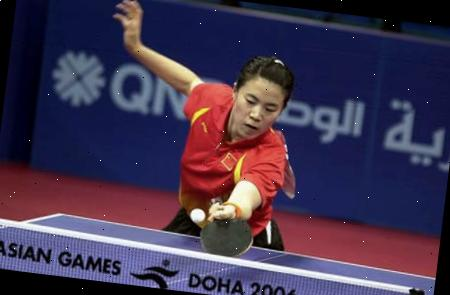ball: (186, 204, 208, 224)
